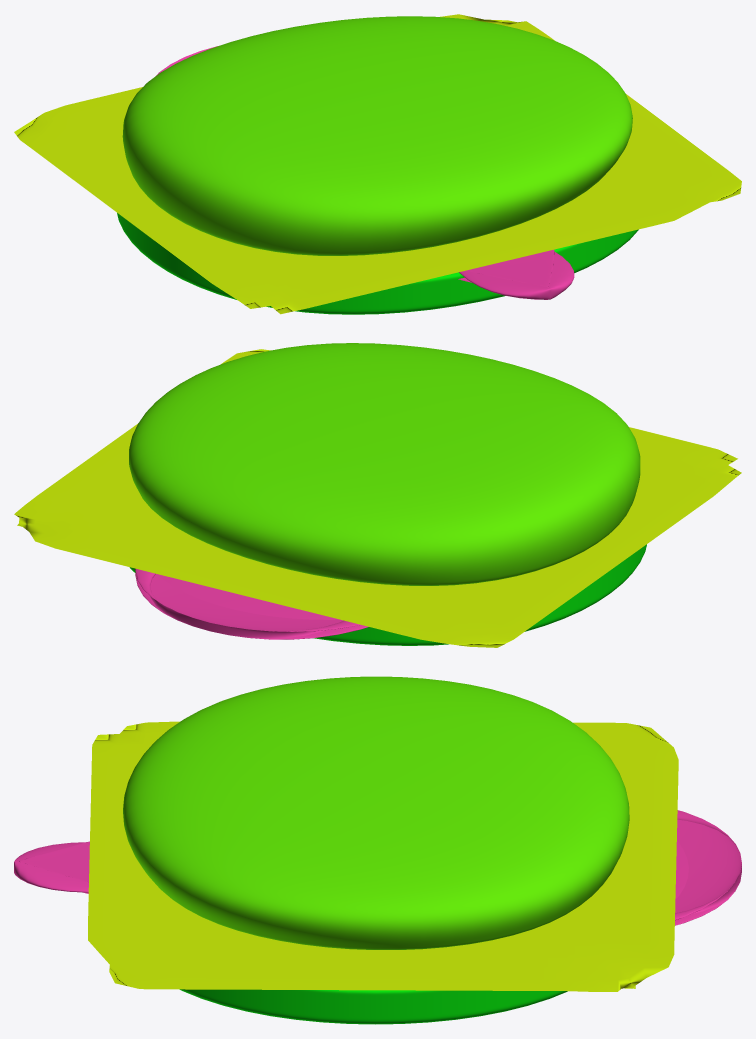
Rendered from hamburger.glb.
3 views of the same model, one above another, from view 1: azimuth 30°, elevation 25°; view 2: azimuth 150°, elevation 25°; view 3: azimuth 270°, elevation 25° (orthographic). The views are drawn at different scales.
Parts seen in each view (by area): view 1: Cube.003, Cube.002, Cube, Cube.001; view 2: Cube.003, Cube.002, Cube.001, Cube; view 3: Cube.003, Cube.002, Cube, Cube.001.
Part boxes in pixels (x1=…): Cube.003: x1=122, y1=16, x2=632, y2=255; Cube.002: x1=14, y1=14, x2=741, y2=314; Cube: x1=117, y1=213, x2=638, y2=314; Cube.001: x1=156, y1=46, x2=574, y2=299; Cube.003: x1=129, y1=343, x2=640, y2=585; Cube.002: x1=14, y1=349, x2=741, y2=647; Cube.001: x1=135, y1=569, x2=368, y2=639; Cube: x1=129, y1=544, x2=646, y2=645; Cube.003: x1=123, y1=676, x2=629, y2=949; Cube.002: x1=88, y1=721, x2=678, y2=991; Cube: x1=179, y1=989, x2=567, y2=1024; Cube.001: x1=14, y1=810, x2=741, y2=925.
Size of the model in its own units: 9.91 by 2.38 by 11.28.
